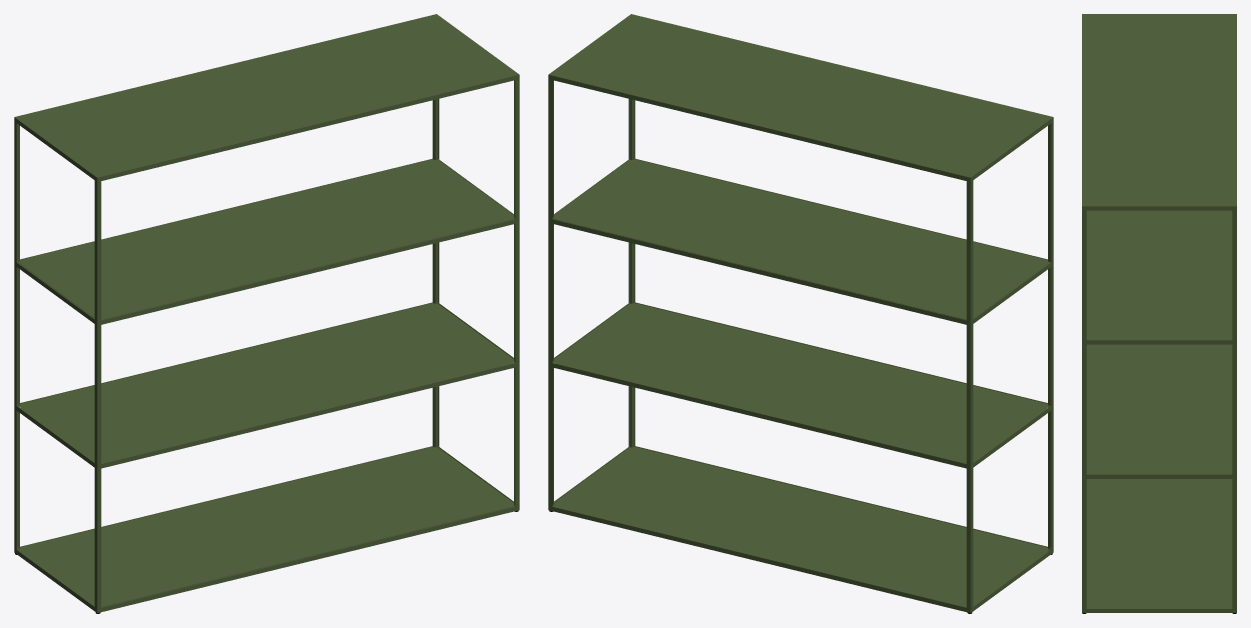
Rendered from hey reol4.fbx.
3 renders of one model, left to right at view 1: azimuth 30°, elevation 25°; view 2: azimuth 150°, elevation 25°; view 3: azimuth 270°, elevation 25°, orthographic. The views are drawn at different scales.
Parts seen in each view (by area): view 1: Hey reol.high poly; view 2: Hey reol.high poly; view 3: Hey reol.high poly.
Part boxes in pixels (x1=…): Hey reol.high poly: x1=14, y1=14, x2=519, y2=613; Hey reol.high poly: x1=548, y1=14, x2=1053, y2=613; Hey reol.high poly: x1=1082, y1=14, x2=1236, y2=613.
Bounding box in the file's own units: 200 × 197 × 68.
